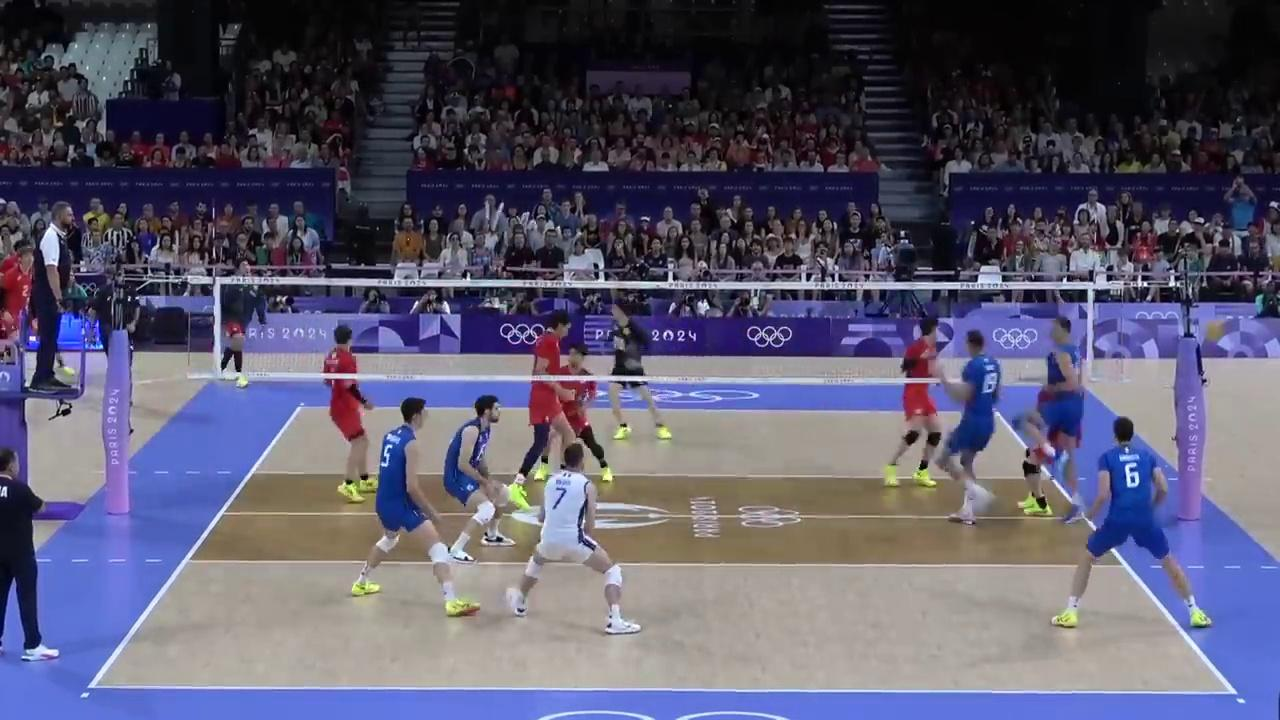ball: (1203, 319, 1223, 342)
